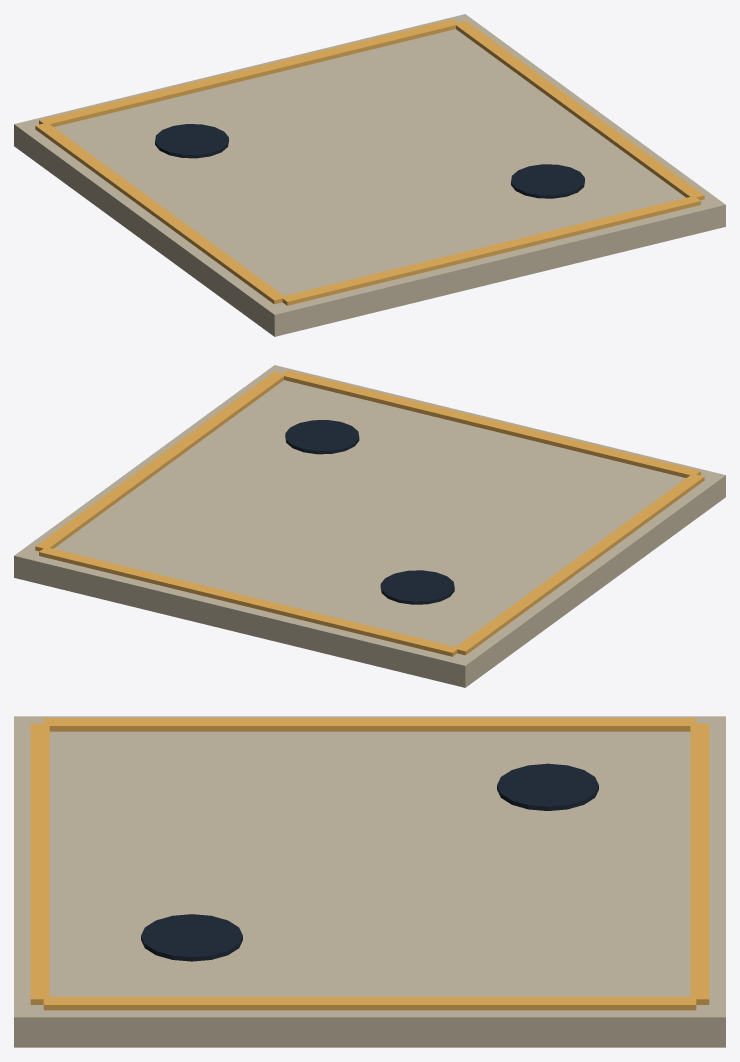
The model's file is space_die_cream_face_2.glb.
3 renders of one model, top to bottom at view 1: azimuth 30°, elevation 25°; view 2: azimuth 150°, elevation 25°; view 3: azimuth 270°, elevation 25°, orthographic. The views are drawn at different scales.
Visible parts, largest first — view 1: FixedDetails, BrassTrim; view 2: FixedDetails, BrassTrim; view 3: FixedDetails, BrassTrim.
Part boxes in pixels (left/top/right/bottom): FixedDetails: left=14, top=14, right=725, bottom=336; BrassTrim: left=35, top=19, right=704, bottom=305; FixedDetails: left=14, top=365, right=725, bottom=687; BrassTrim: left=35, top=370, right=704, bottom=656; FixedDetails: left=14, top=716, right=725, bottom=1047; BrassTrim: left=30, top=718, right=709, bottom=1010.
Bounding box in the file's own units: 0.6 × 0.034 × 0.6.
